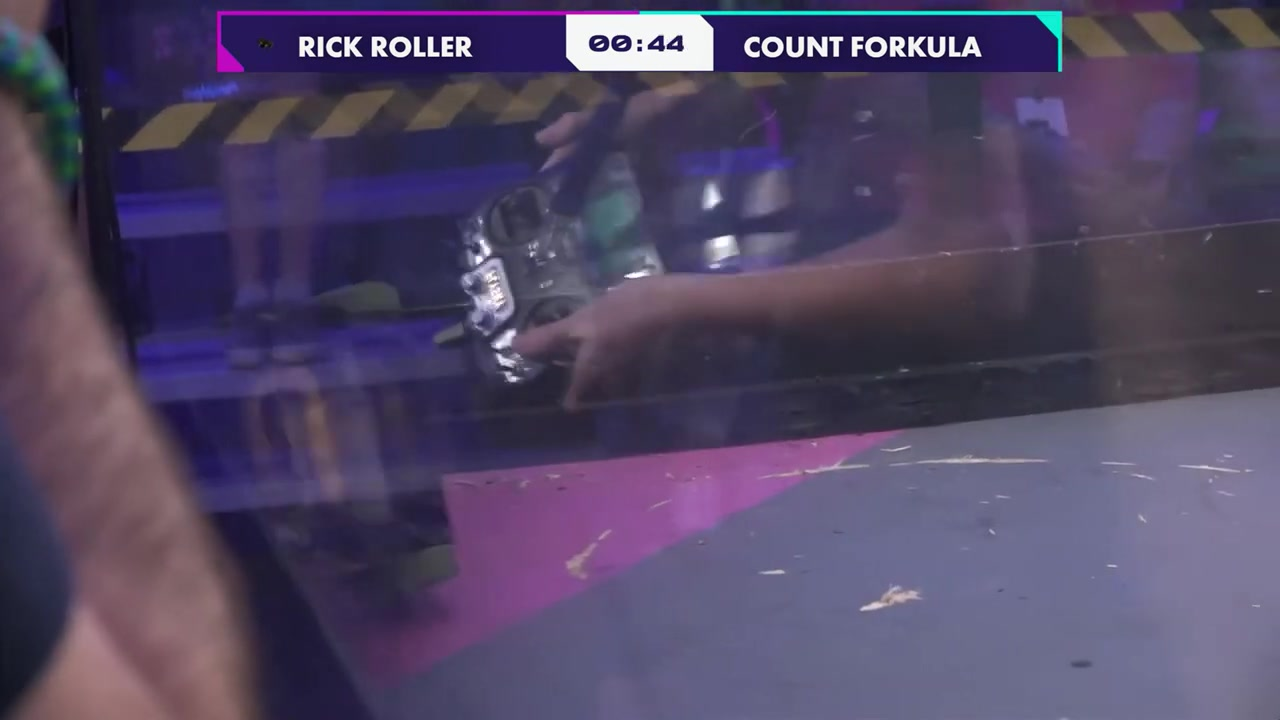combatbot: (228, 283, 462, 602)
